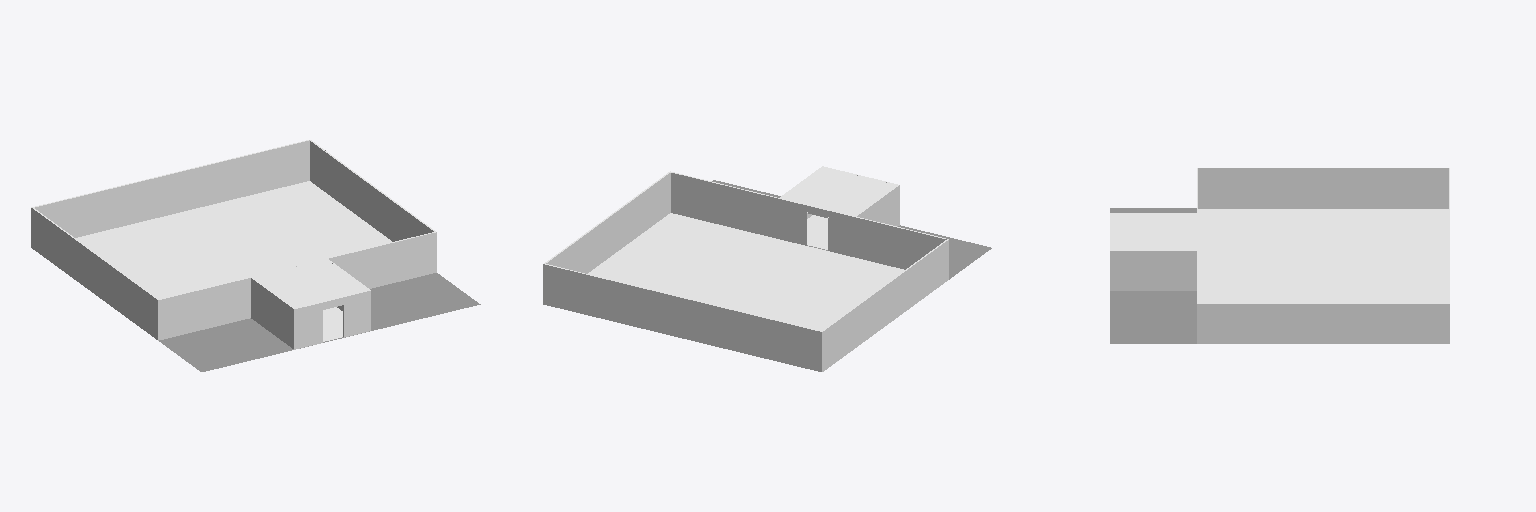
Rendered from Hall.obj.
3 views of the same model, side by side, from view 1: azimuth 30°, elevation 25°; view 2: azimuth 150°, elevation 25°; view 3: azimuth 270°, elevation 25° (orthographic).
Parts seen in each view (by area): view 1: room_17_58, wall_7_40, ground_1, wall_8_47, wall_6_34, wall_9_53, wall_5_29, room_16_57, wall_2_11, wall_1_5, room_16_56; view 2: room_17_58, wall_7_41, wall_8_47, wall_5_28, wall_6_34, room_16_57, wall_9_52, wall_4_23, ground_1, wall_1_5, room_16_56; view 3: room_17_58, wall_8_46, wall_6_35, ground_1, wall_3_17, room_16_57.
Part boxes in pixels (x1,y1,x2,y2): room_17_58: (76,181,391,298); wall_7_40: (35,140,309,237); ground_1: (159,273,480,371); wall_8_47: (31,208,157,339); wall_6_34: (310,141,433,241); wall_9_53: (158,278,250,340); wall_5_29: (329,232,436,288); room_16_57: (253,259,367,307); wall_2_11: (294,291,370,349); wall_1_5: (251,278,293,348); room_16_56: (323,307,342,341); room_17_58: (588,213,903,330); wall_7_41: (543,264,821,371); wall_8_47: (822,240,948,371); wall_5_28: (671,173,777,238); wall_6_34: (546,173,670,273); room_16_57: (781,167,896,215); wall_9_52: (855,217,946,269); wall_4_23: (778,199,854,256); ground_1: (712,180,991,279); wall_1_5: (857,185,899,226); room_16_56: (807,215,827,249); room_17_58: (1198,209,1448,302); wall_8_46: (1198,168,1448,208); wall_6_35: (1197,304,1449,343); ground_1: (1110,208,1196,343); wall_3_17: (1110,251,1196,290); room_16_57: (1112,214,1196,249).
Bounding box in the file's own units: 1805 × 250 × 1909.